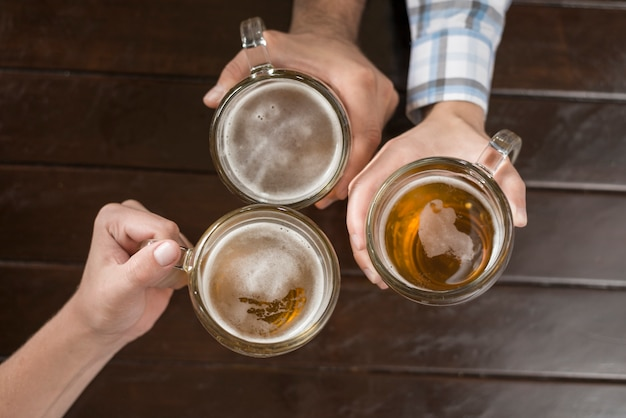alcohol: (364, 127, 523, 308), (205, 18, 352, 213), (166, 205, 342, 360)
